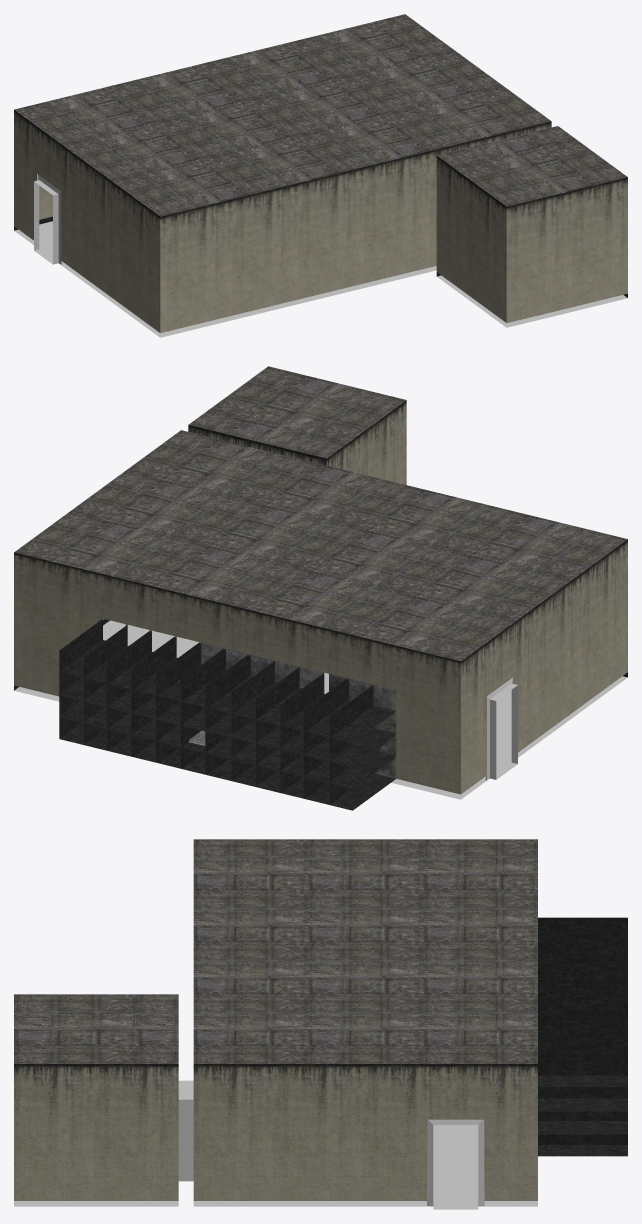
The model's file is Morgue_3x3.FBX.
The picture shows the model from 3 angles, top to bottom: view 1: azimuth 30°, elevation 25°; view 2: azimuth 150°, elevation 25°; view 3: azimuth 270°, elevation 25°; orthographic projection. The views are drawn at different scales.
Parts seen in each view (by area): view 1: Morgue_3x3; view 2: Morgue_3x3, Morgue_doors_closed, Morgue_doors_page; view 3: Morgue_3x3.
Boxes of the visible parts, x1=… form: Morgue_3x3: x1=14, y1=14, x2=627, y2=337; Morgue_3x3: x1=14, y1=366, x2=627, y2=810; Morgue_doors_closed: x1=299, y1=667, x2=396, y2=778; Morgue_doors_page: x1=189, y1=642, x2=297, y2=745; Morgue_3x3: x1=14, y1=839, x2=627, y2=1209.
Size of what is drawn, in the model's own units: 1437 by 413 by 1614.
